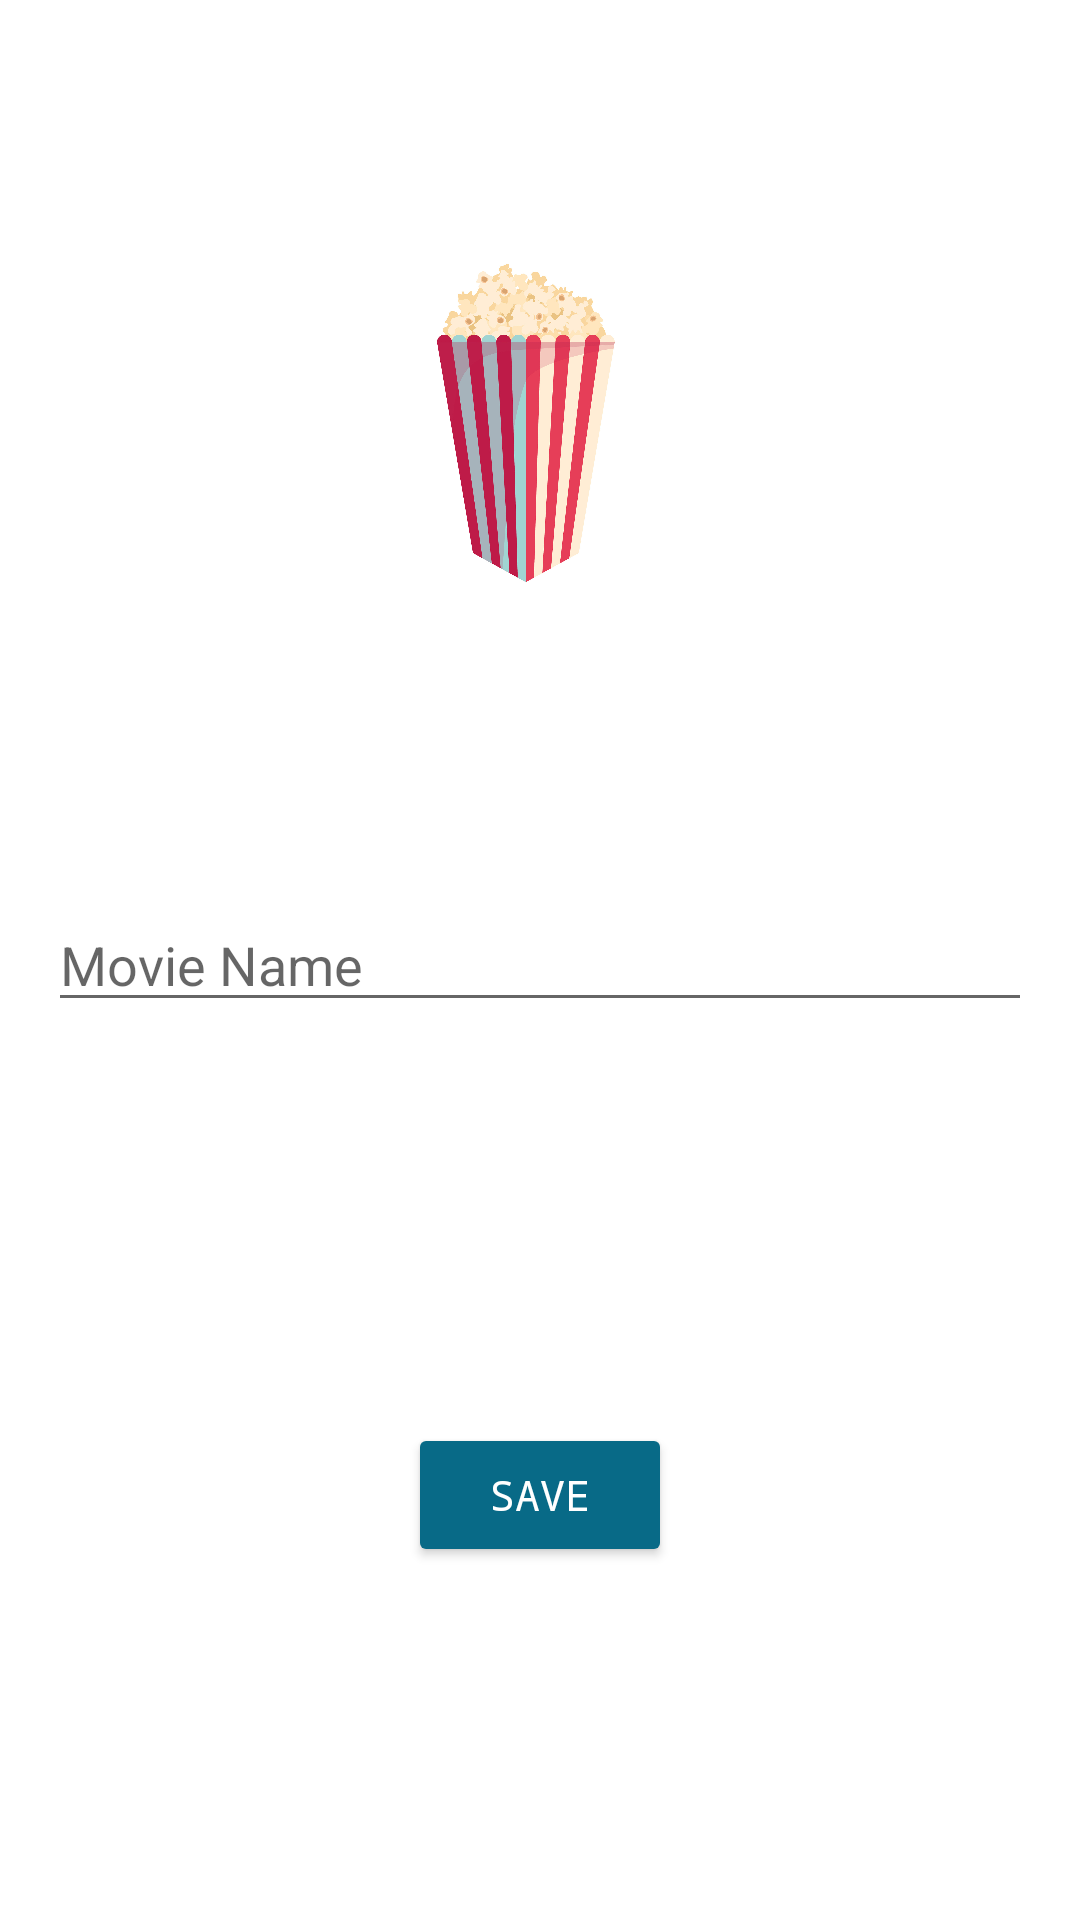

Screen size 1080x1920. Icon name, then its box in pixels as (x1=x1, y1=y1, x2=x2, y2=y2):
movie: (x1=437, y1=264, x2=615, y2=582)
